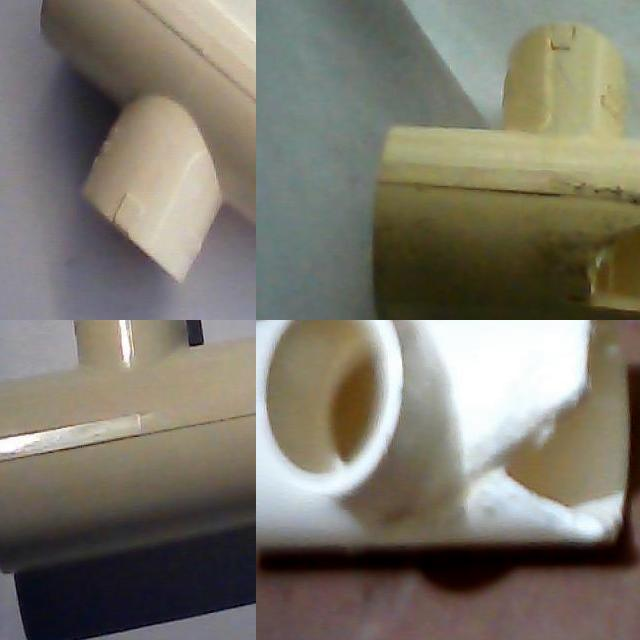Defective: (493, 389, 612, 507), (571, 177, 640, 320)
T Joint: (256, 320, 630, 556), (371, 22, 640, 320), (0, 320, 256, 577)
